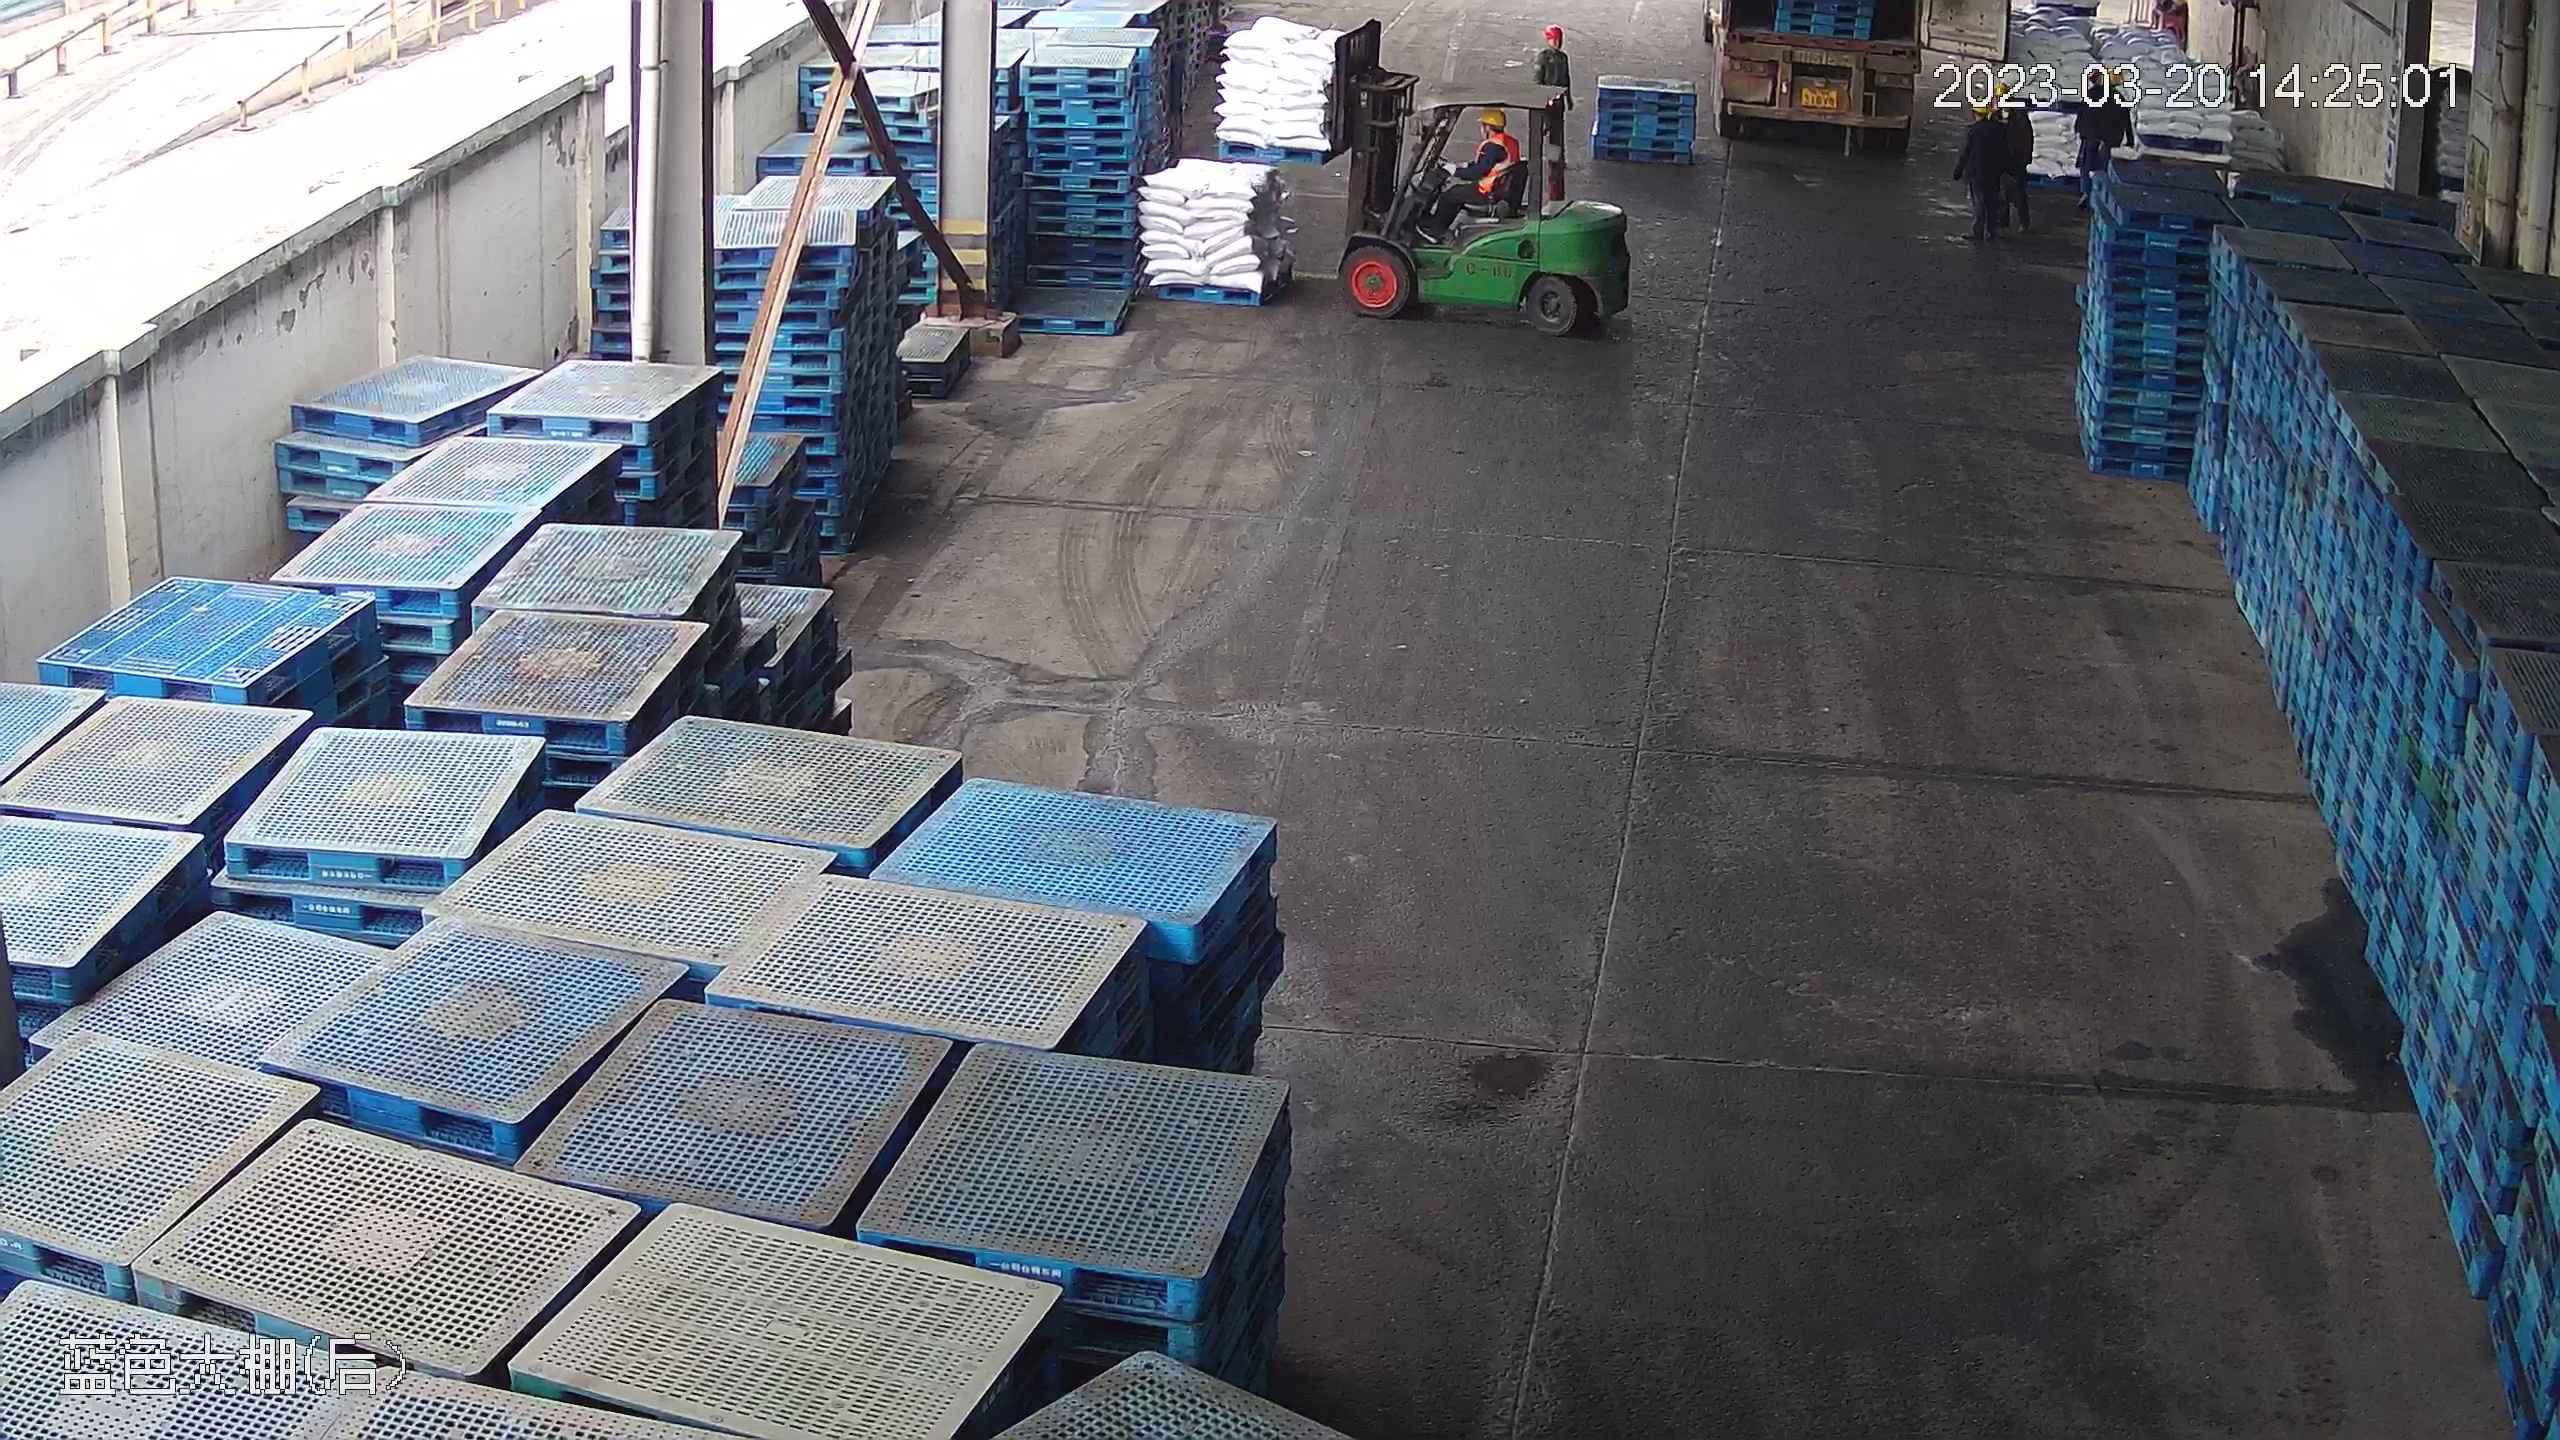head: (1467, 105, 1516, 161), (1535, 22, 1572, 69)
helmet: (1479, 105, 1510, 128), (1542, 21, 1568, 39)
people: (1420, 104, 1518, 227), (1959, 92, 2012, 241), (1989, 85, 2036, 244), (2074, 60, 2130, 194), (1526, 19, 1573, 165)
truck: (1707, 1, 1921, 141)
